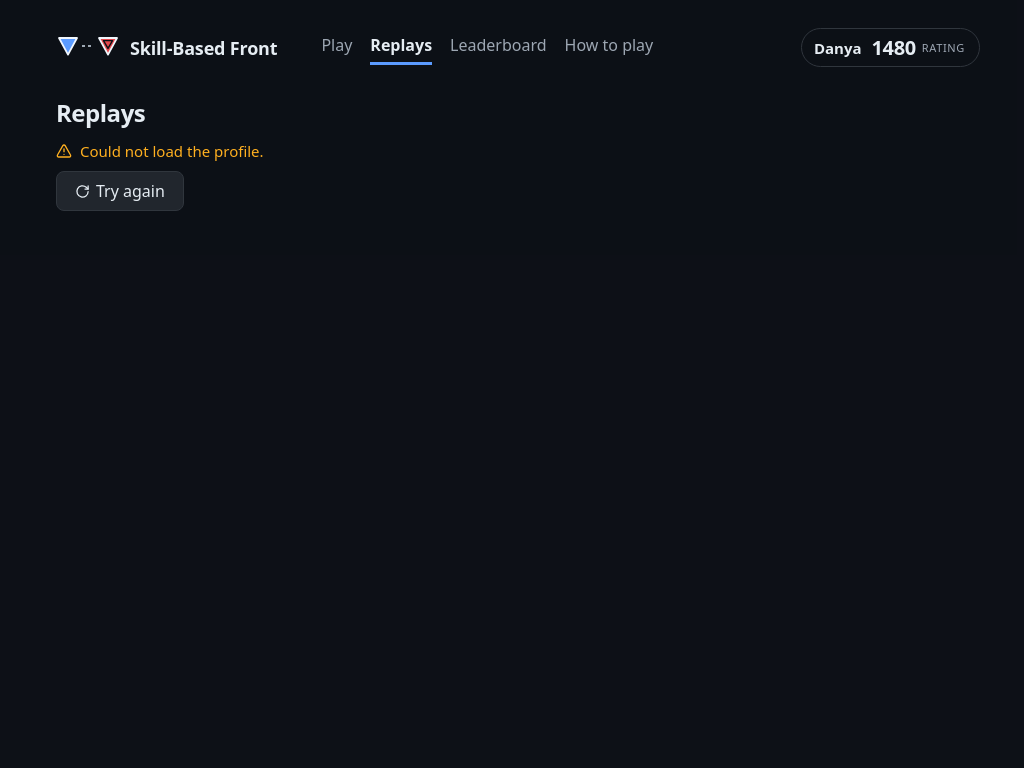
ReplaysScreen (#629, R2) › a failure says why and loads again
Click the button "Try again": click(120, 191) 56,171 -> 184,211
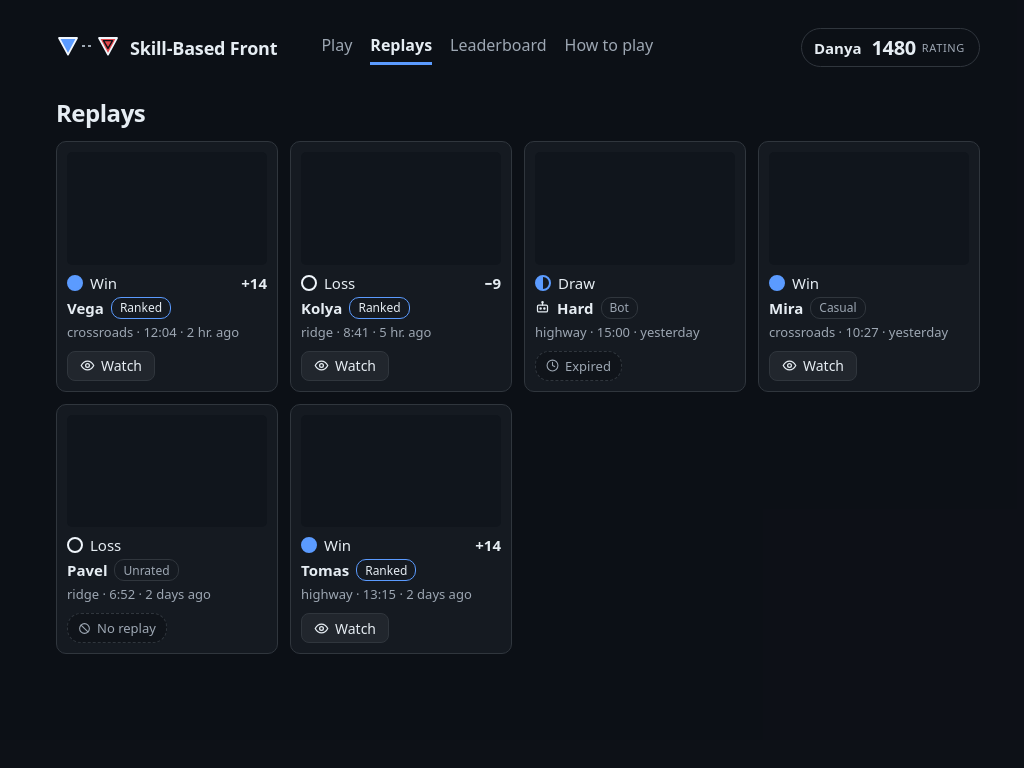
Check: the number of list items is 6, box 56,141 -> 278,392; 290,141 -> 512,392; 524,141 -> 746,392; 758,141 -> 980,392; 56,404 -> 278,654; 290,404 -> 512,654
